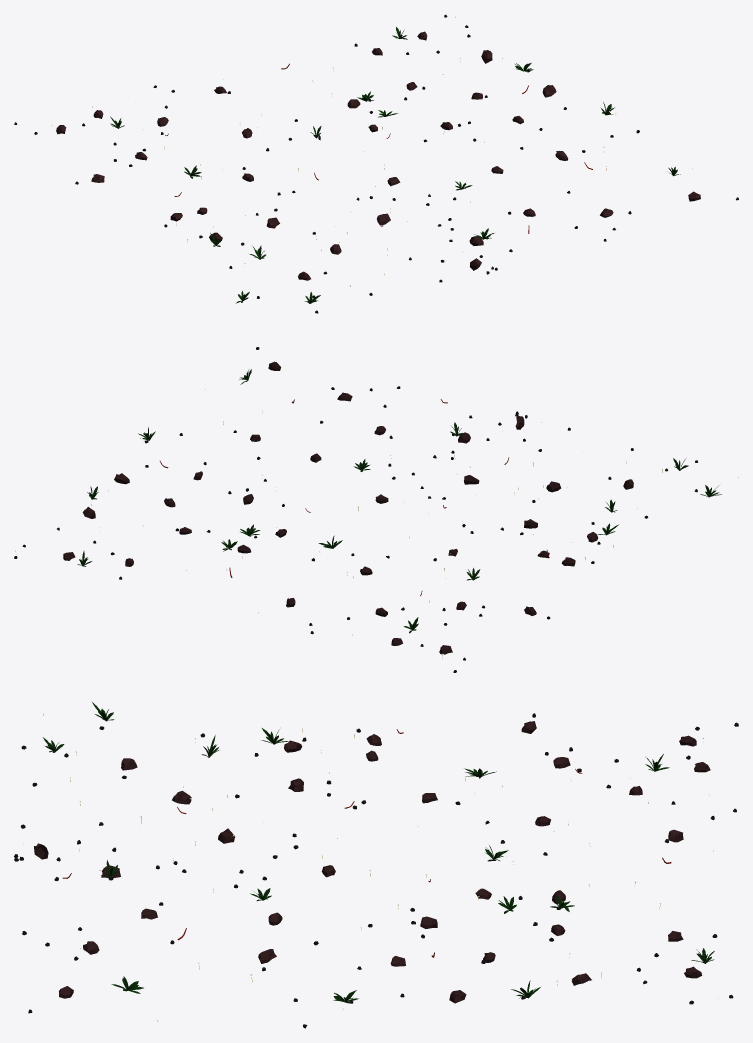
Rendered from Scatter.FBX.
3 views of the same model, one above another, from view 1: azimuth 30°, elevation 25°; view 2: azimuth 150°, elevation 25°; view 3: azimuth 270°, elevation 25° (orthographic). The views are drawn at different scales.
Visible parts, largest first — view 1: Props; view 2: Props; view 3: Props.
Part boxes in pixels (x1=…): Props: x1=14, y1=14, x2=738, y2=316; Props: x1=14, y1=347, x2=738, y2=672; Props: x1=14, y1=702, x2=738, y2=1028.
Bounding box in the file's own units: 130 × 7.43 × 128.
